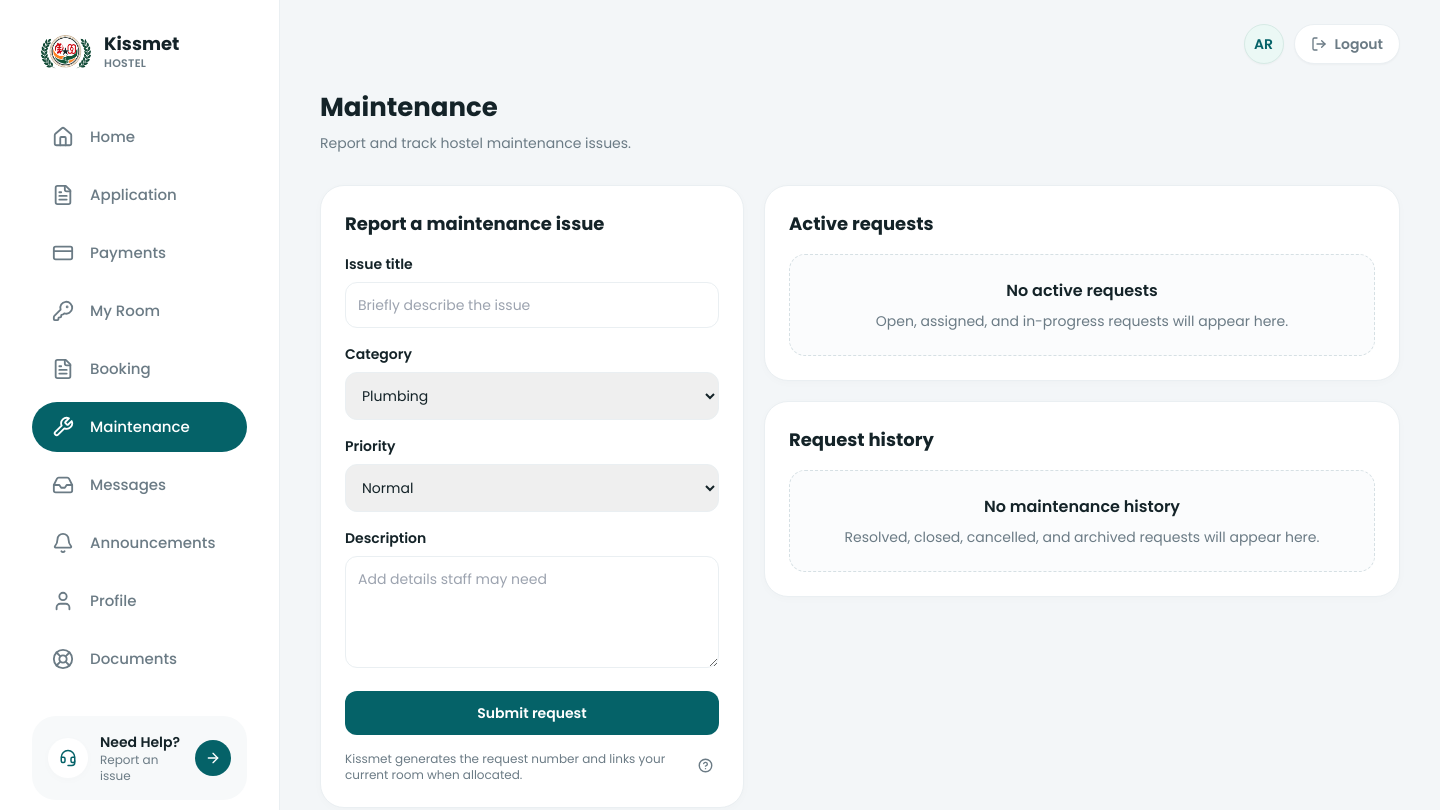
resident maintenance › prevents duplicate submissions while a request is in flight
The image size is (1440, 810).
Type "Broken tap" into the field labelled "Issue title". click: {"x": 532, "y": 305}
box: [345,282,719,328]
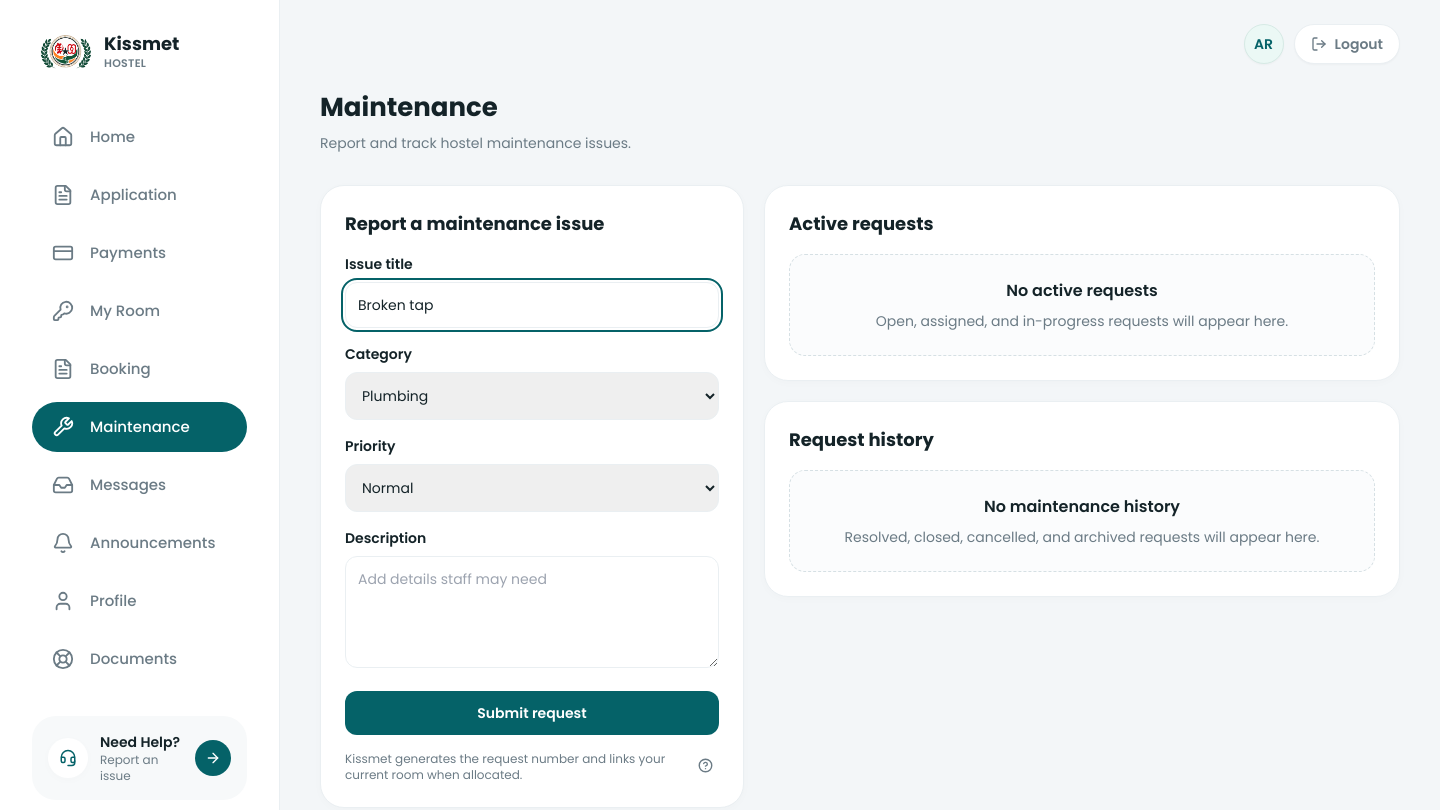
Click the button "Submit request". click: {"x": 532, "y": 713}
box: [345,691,719,735]
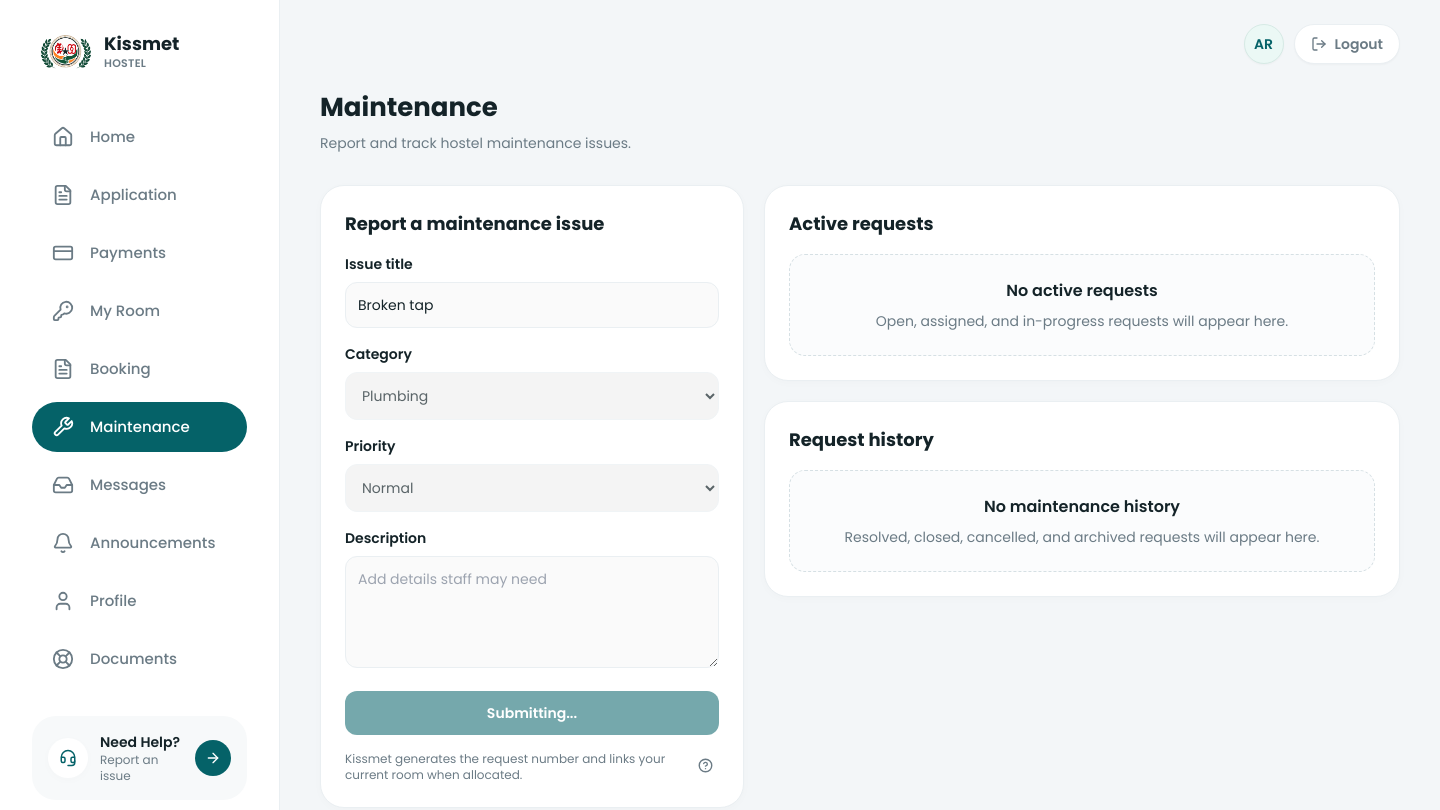
Click the button named "Submit request". click: {"x": 532, "y": 713}
box: [345,691,719,735]
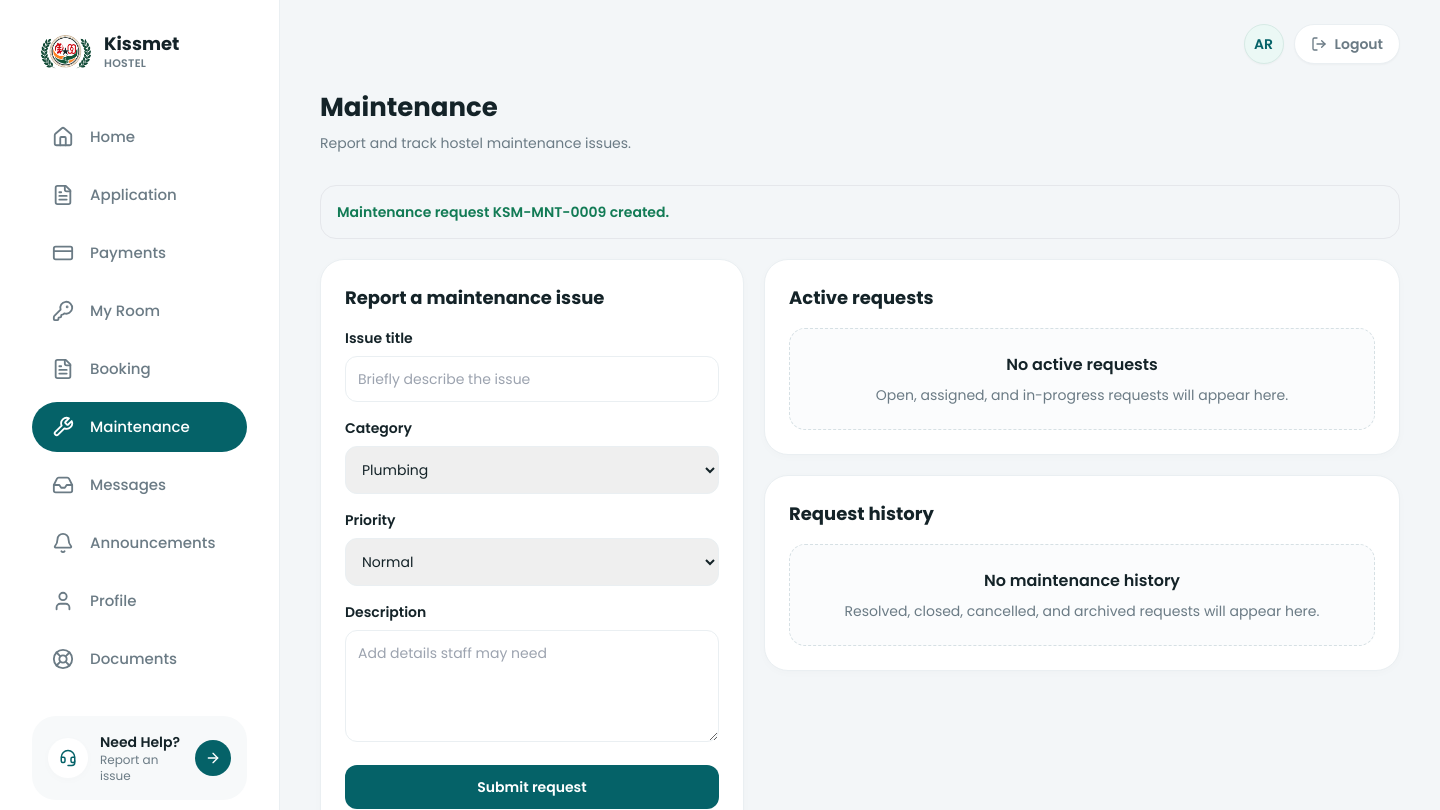
Result: the text "Maintenance request KSM-MNT-0009 created." is shown at [320,185,1400,239]
